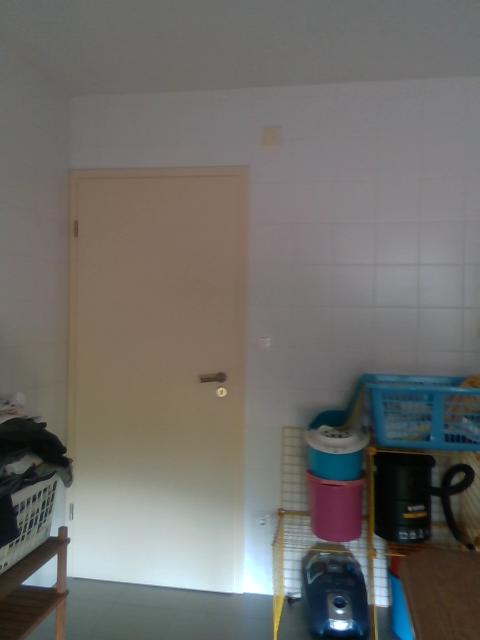door: (78, 180, 241, 597)
